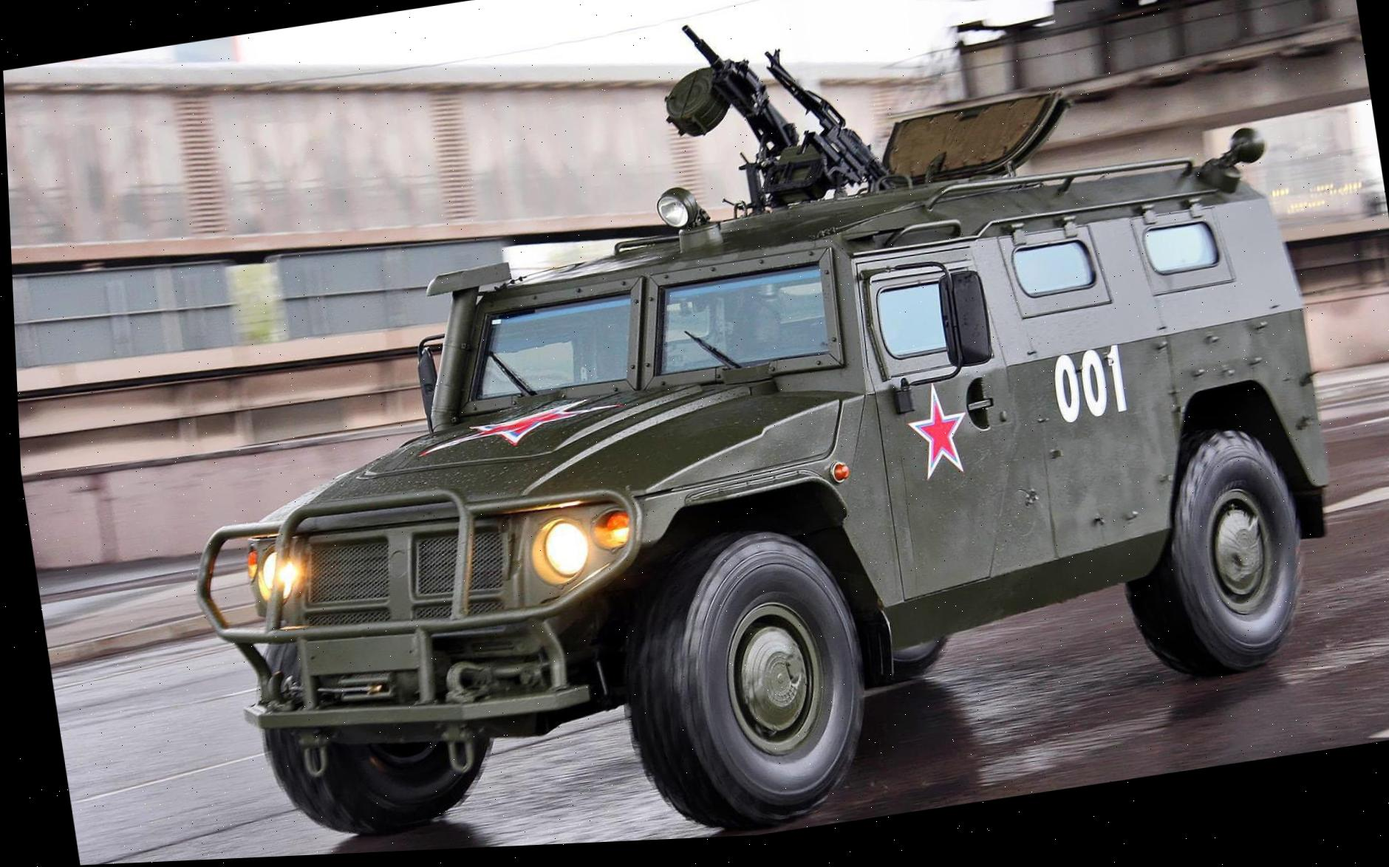armored_car: (150, 0, 1385, 860)
